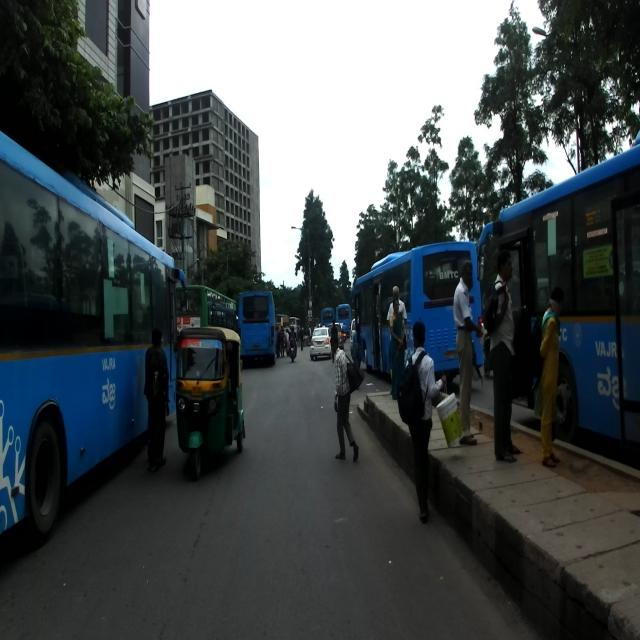autorickshaw: (173, 326, 246, 479)
bus: (0, 127, 185, 541), (473, 132, 638, 442), (351, 240, 484, 380)
